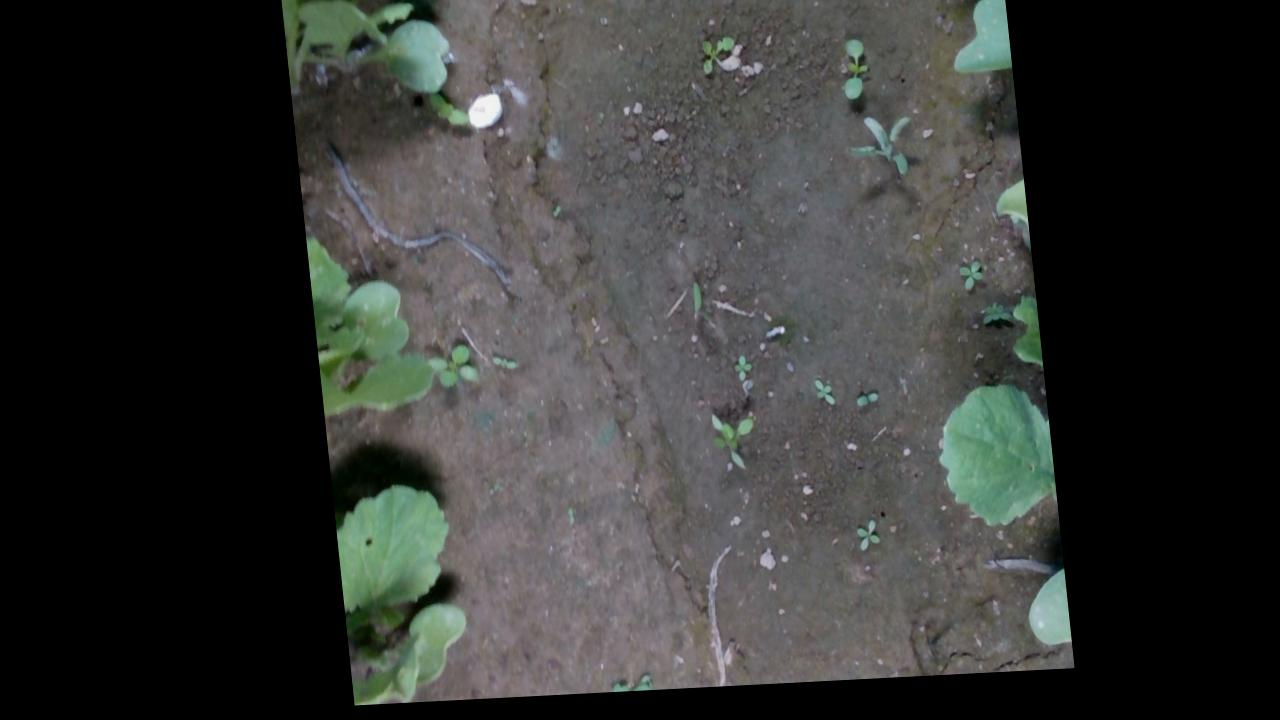weed: (835, 47, 871, 110), (840, 528, 869, 562), (949, 270, 978, 303), (801, 388, 826, 416), (723, 362, 745, 391), (481, 361, 510, 377), (845, 401, 870, 417)
